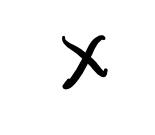mult: (62, 34, 110, 90)
